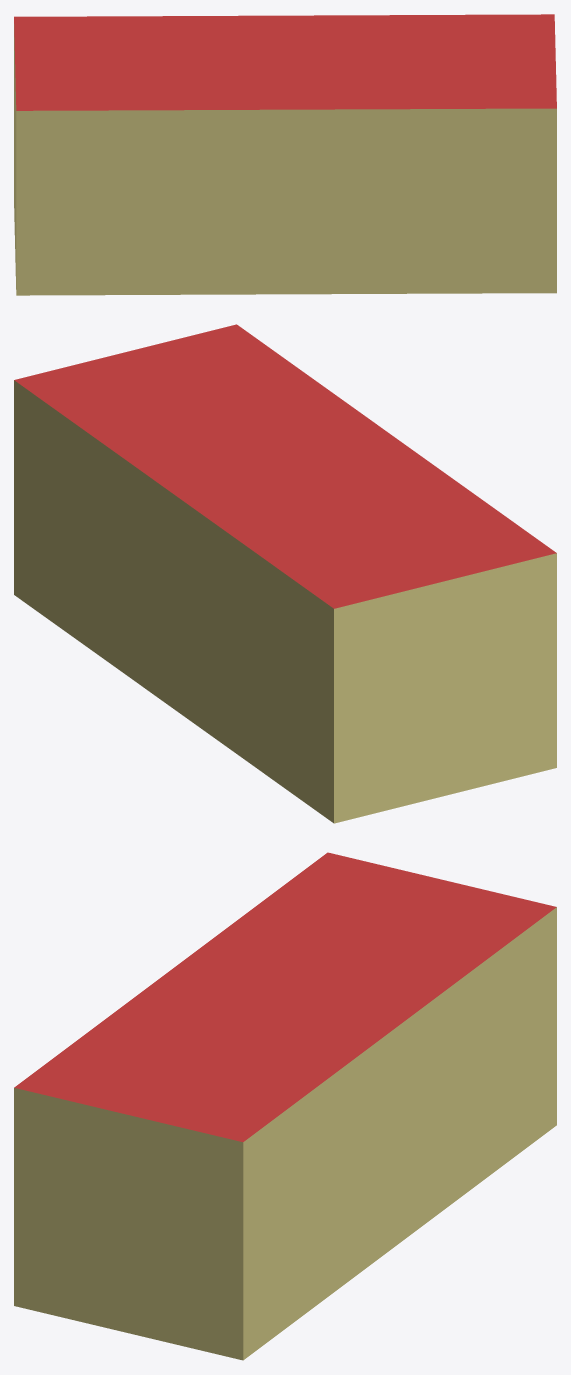
3 views of the same model, one above another, from view 1: azimuth 30°, elevation 25°; view 2: azimuth 150°, elevation 25°; view 3: azimuth 270°, elevation 25° (orthographic). The views are drawn at different scales.
Visible parts, largest first — view 1: group_4, group_3; view 2: group_4, group_3; view 3: group_4, group_3.
Boxes of the visible parts, x1,y1,x2,y2 form: group_4: [14, 24, 556, 295]; group_3: [14, 14, 556, 110]; group_4: [14, 380, 556, 823]; group_3: [14, 324, 556, 608]; group_4: [14, 907, 556, 1360]; group_3: [14, 852, 556, 1141].
Size of the model in its own units: 14.73 by 11.66 by 5.17.
